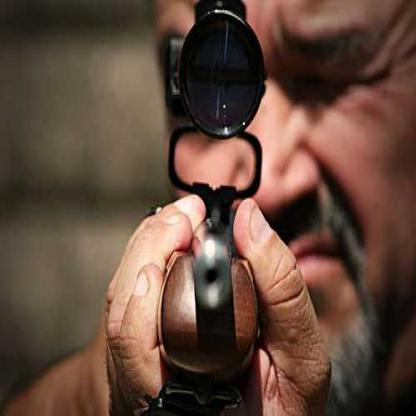Heavy Gun: (152, 0, 268, 416)
Person: (0, 0, 416, 416)
